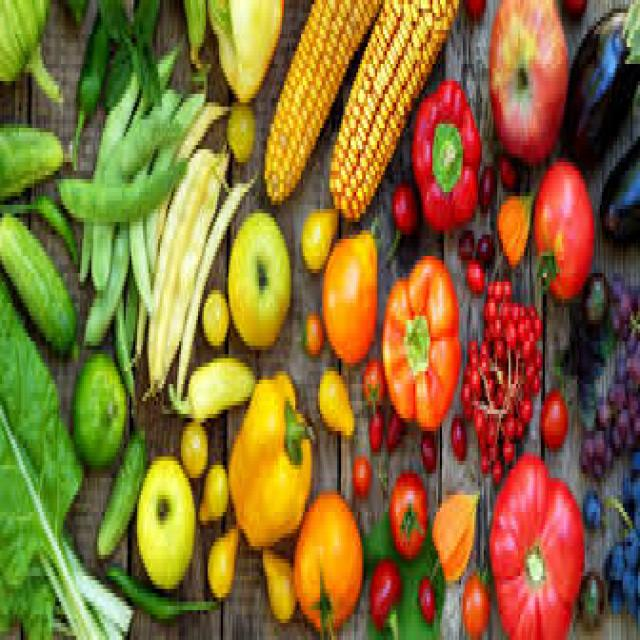organic waste: (0, 269, 128, 636), (326, 0, 459, 222), (128, 98, 225, 363), (263, 0, 381, 205), (488, 448, 582, 636), (176, 170, 253, 392), (459, 273, 539, 482), (225, 363, 314, 546), (152, 145, 219, 388), (88, 115, 179, 290), (146, 141, 212, 375), (164, 145, 226, 376), (379, 252, 459, 426), (74, 60, 137, 277), (486, 0, 568, 158), (558, 4, 638, 162), (410, 68, 478, 230), (0, 209, 76, 350), (291, 486, 360, 636), (51, 153, 183, 222), (225, 204, 288, 346), (532, 158, 592, 303), (134, 452, 192, 585), (206, 0, 284, 98), (320, 218, 373, 362), (95, 0, 160, 115), (93, 418, 145, 559), (104, 559, 210, 627), (579, 354, 638, 474), (68, 4, 112, 158), (68, 341, 124, 461), (0, 119, 70, 209), (103, 0, 158, 107), (164, 350, 253, 414), (0, 0, 57, 98), (425, 482, 476, 585), (84, 230, 128, 342), (598, 128, 638, 247), (25, 192, 76, 265), (388, 469, 424, 555), (259, 538, 293, 623), (494, 188, 530, 264), (314, 363, 350, 435), (606, 268, 638, 346), (112, 299, 136, 401), (206, 520, 236, 598), (299, 205, 335, 269), (370, 559, 398, 636), (461, 563, 488, 636), (194, 457, 227, 516), (387, 175, 413, 243), (200, 282, 227, 346), (223, 98, 251, 158), (139, 77, 179, 119), (539, 388, 568, 444), (183, 0, 206, 68), (179, 418, 204, 478), (579, 269, 606, 324), (579, 572, 602, 627), (156, 26, 181, 76), (301, 303, 320, 358), (205, 0, 230, 38), (350, 448, 370, 495), (362, 358, 383, 401), (385, 409, 402, 456), (623, 525, 638, 576), (59, 0, 88, 26), (368, 401, 382, 452), (476, 162, 494, 201), (416, 580, 432, 623), (606, 576, 624, 614), (474, 230, 494, 264), (418, 426, 432, 474), (619, 568, 634, 610), (450, 410, 464, 452), (583, 482, 598, 521), (463, 256, 480, 290), (457, 0, 486, 17), (456, 222, 472, 252), (606, 542, 621, 572), (629, 469, 638, 516), (617, 473, 629, 508), (499, 154, 514, 179), (625, 448, 638, 465)
